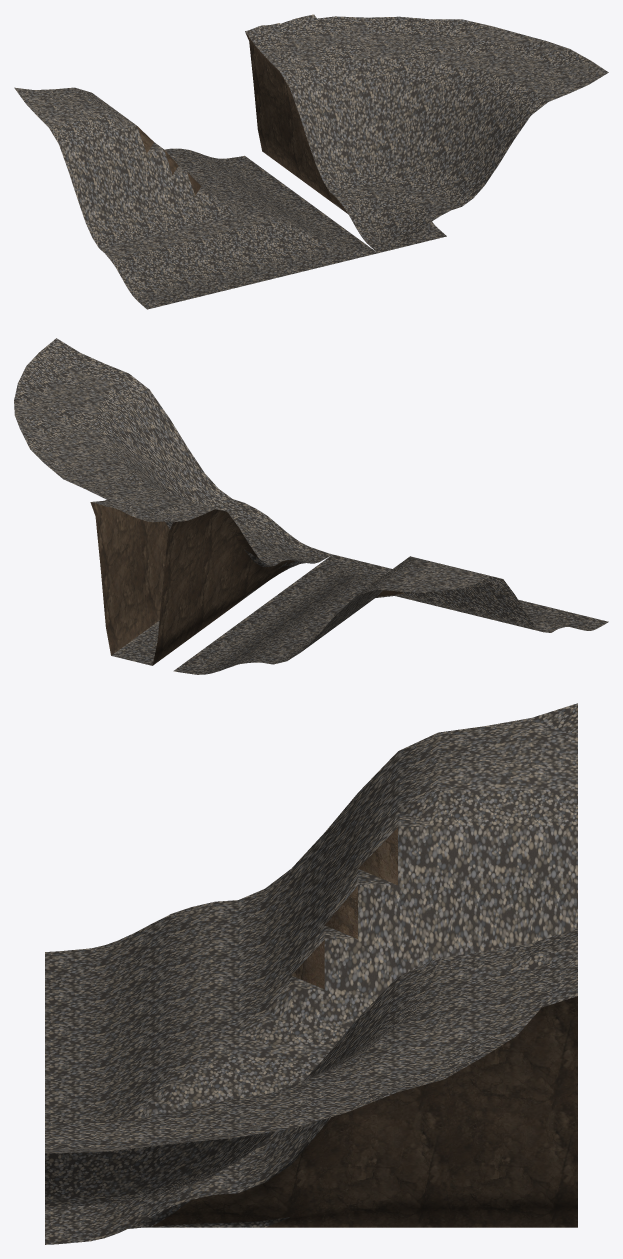
Rendered from bk_desert_dead.glb.
3 renders of one model, top to bottom at view 1: azimuth 30°, elevation 25°; view 2: azimuth 150°, elevation 25°; view 3: azimuth 270°, elevation 25°, orthographic. The views are drawn at different scales.
Parts seen in each view (by area): view 1: corner_outer, corner_inner, pass12, straight6, straight12_a, straight12_c; view 2: corner_outer, pass12, corner_inner, straight12_c; view 3: corner_inner, pass12, corner_outer, straight12_a, straight12_b, straight6, straight12_c.
Boxes of the visible parts, bbox=[...] form: corner_outer: bbox=[245, 16, 608, 253]; corner_inner: bbox=[14, 87, 377, 309]; pass12: bbox=[245, 32, 446, 252]; straight6: bbox=[248, 23, 338, 196]; straight12_a: bbox=[280, 14, 443, 246]; straight12_c: bbox=[272, 18, 299, 62]; corner_outer: bbox=[14, 338, 332, 565]; pass12: bbox=[90, 502, 308, 665]; corner_inner: bbox=[173, 554, 608, 674]; straight12_c: bbox=[98, 503, 196, 528]; corner_inner: bbox=[45, 703, 577, 1123]; pass12: bbox=[45, 996, 577, 1244]; corner_outer: bbox=[45, 928, 577, 1206]; straight12_a: bbox=[52, 962, 577, 1244]; straight12_b: bbox=[117, 958, 577, 1225]; straight6: bbox=[246, 930, 577, 1155]; straight12_c: bbox=[249, 956, 577, 1154].
Size of the model in its own units: 80 by 21.02 by 40.
Materials: 2 (2 with a texture image).
